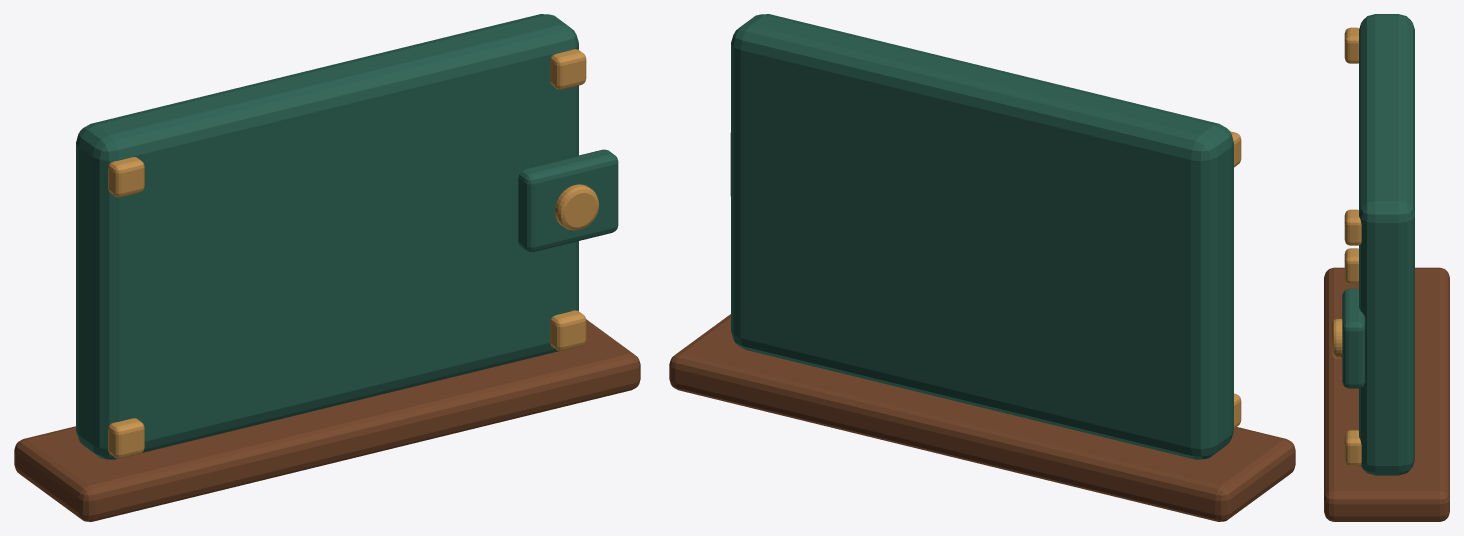
Rendered from hybrid-balance-wallet-closed.glb.
3 renders of one model, left to right at view 1: azimuth 30°, elevation 25°; view 2: azimuth 150°, elevation 25°; view 3: azimuth 270°, elevation 25°, orthographic. The views are drawn at different scales.
Parts seen in each view (by area): view 1: Closed leather wallet, Walnut wallet dock, Leather clasp strap, Brass wallet snap, Brass wallet corner, Brass wallet corner.001, Brass wallet corner.003, Brass wallet corner.002; view 2: Closed leather wallet, Walnut wallet dock; view 3: Closed leather wallet, Walnut wallet dock, Leather clasp strap, Brass wallet corner.002, Brass wallet corner.003, Brass wallet corner.001, Brass wallet corner, Brass wallet snap.
Boxes of the visible parts, box(x1,y1,x2,y2) form: Closed leather wallet: box(76, 14, 578, 459); Walnut wallet dock: box(14, 319, 640, 521); Leather clasp strap: box(518, 149, 618, 252); Brass wallet snap: box(554, 184, 598, 230); Brass wallet corner: box(108, 418, 144, 458); Brass wallet corner.001: box(108, 157, 144, 197); Brass wallet corner.003: box(550, 49, 586, 89); Brass wallet corner.002: box(550, 310, 586, 350); Closed leather wallet: box(731, 14, 1233, 459); Walnut wallet dock: box(669, 314, 1295, 521); Closed leather wallet: box(1359, 14, 1414, 475); Walnut wallet dock: box(1324, 267, 1449, 521); Leather clasp strap: box(1342, 288, 1365, 388); Brass wallet corner.002: box(1344, 430, 1361, 466); Brass wallet corner.003: box(1344, 209, 1361, 245); Brass wallet corner.001: box(1344, 27, 1359, 63); Brass wallet corner: box(1344, 248, 1358, 284); Brass wallet snap: box(1332, 319, 1342, 358).
Size of the model in its own units: 3.3 by 2.01 by 0.76.
